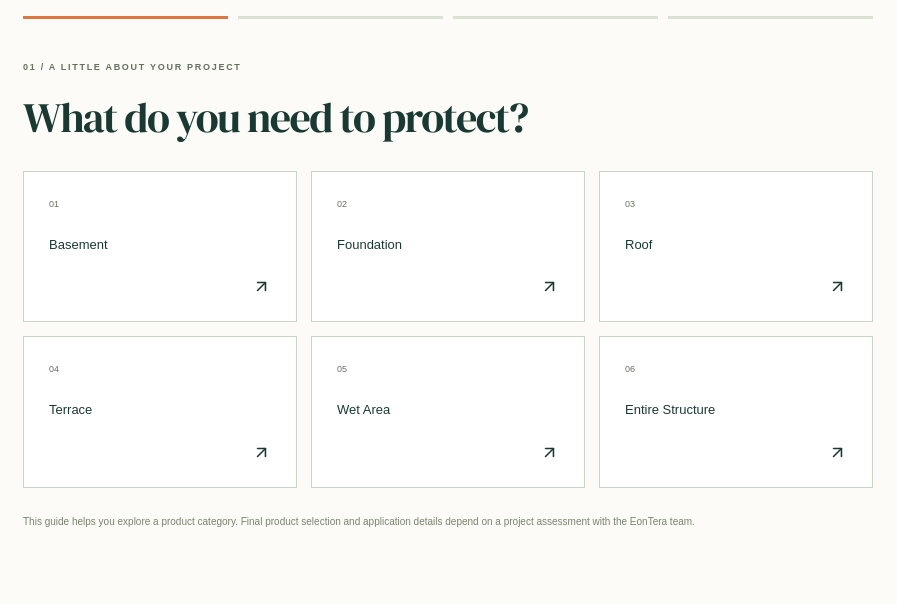
it: interactive static pages › completes the finder and preserves selections when going back
Click the button "01 Basement".
click(78, 244)  # box x1=23 y1=171 x2=297 y2=322
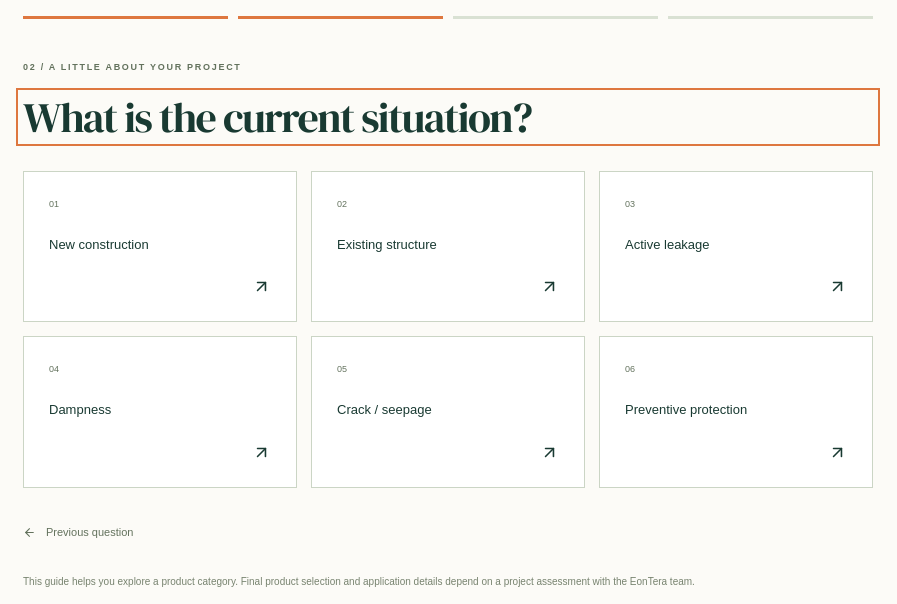
Expected: the heading "What is the current situation?" is shown, x1=23 y1=88 x2=532 y2=146
Click the button "03 Active leakage".
click(667, 244)  # box x1=599 y1=171 x2=873 y2=322
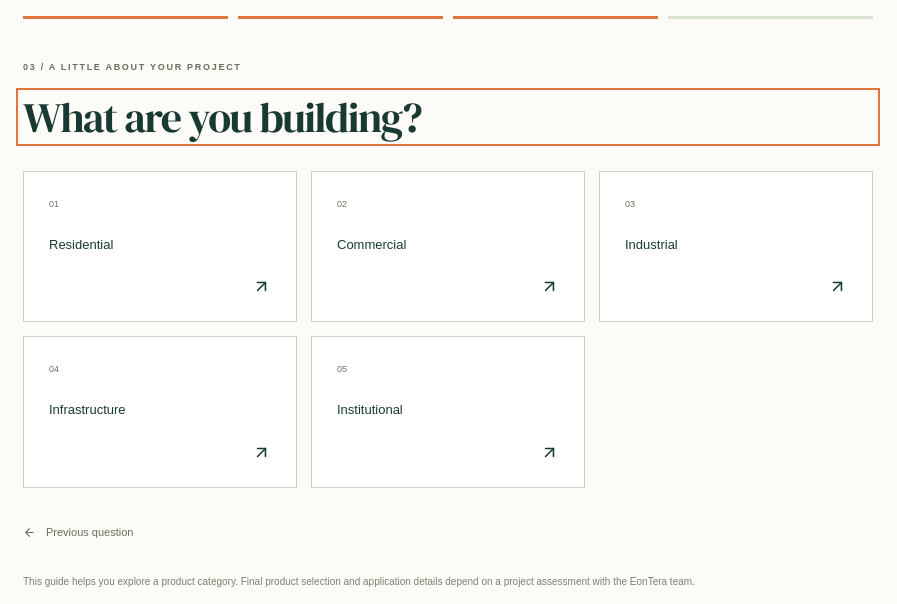
Click the button "01 Residential".
click(81, 244)  # box x1=23 y1=171 x2=297 y2=322
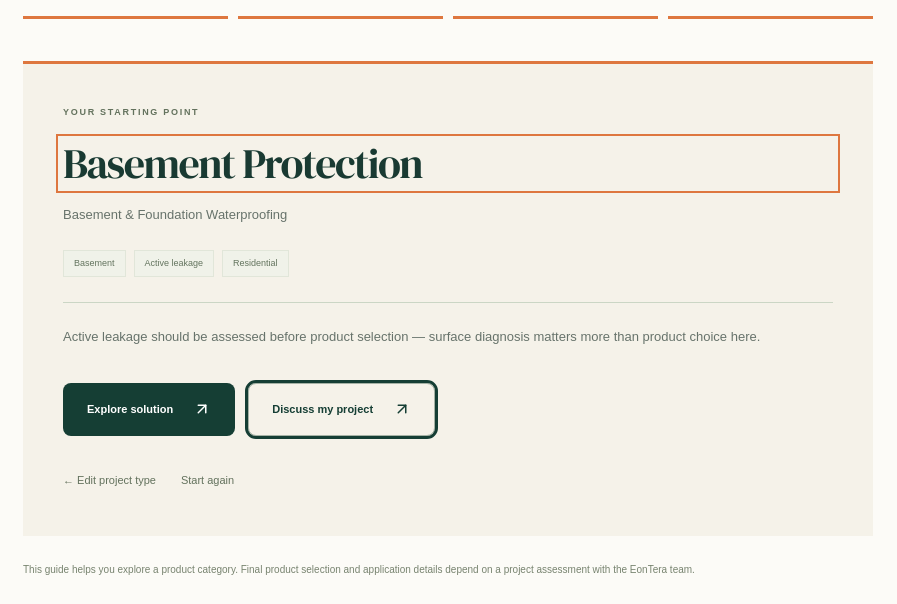
Expected: the heading "Basement Protection" is shown, x1=63 y1=134 x2=422 y2=192
Click the button "← Edit project type".
click(109, 480)  # box x1=63 y1=464 x2=156 y2=496
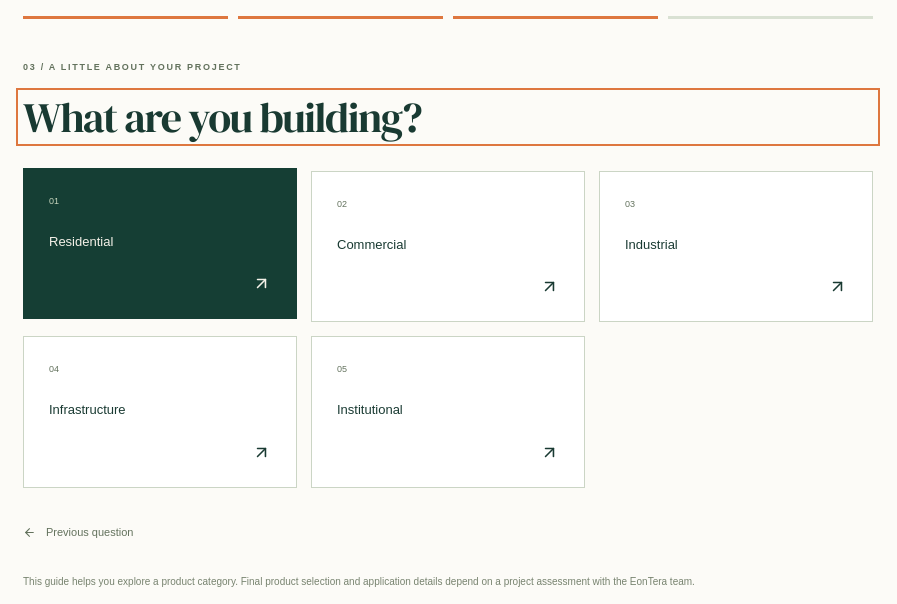
Expected: the button "01 Residential" is pressed, x1=23 y1=168 x2=297 y2=319
Click the button "02 Commercial".
click(372, 244)  # box x1=311 y1=171 x2=585 y2=322
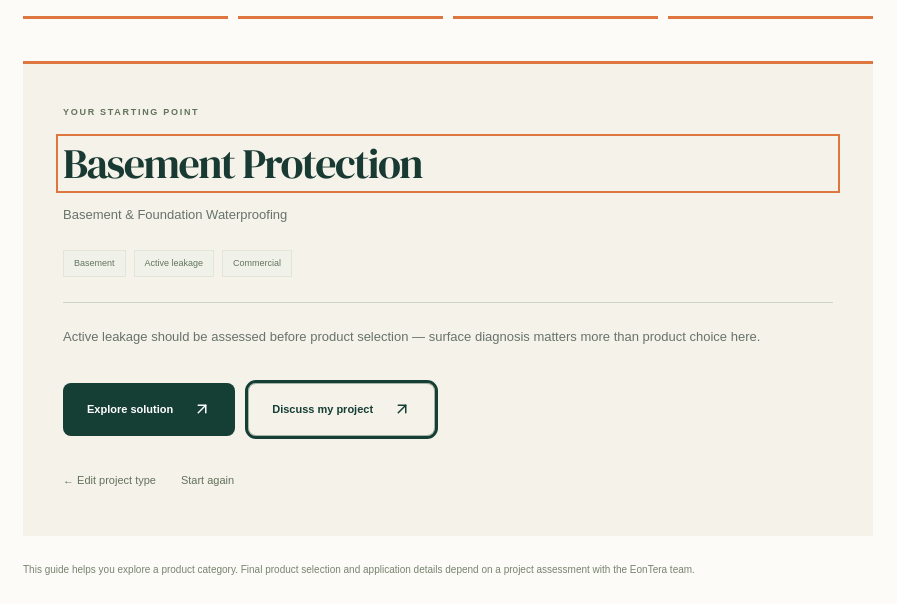
Click the button "Start again".
click(208, 480)  # box x1=181 y1=464 x2=234 y2=496
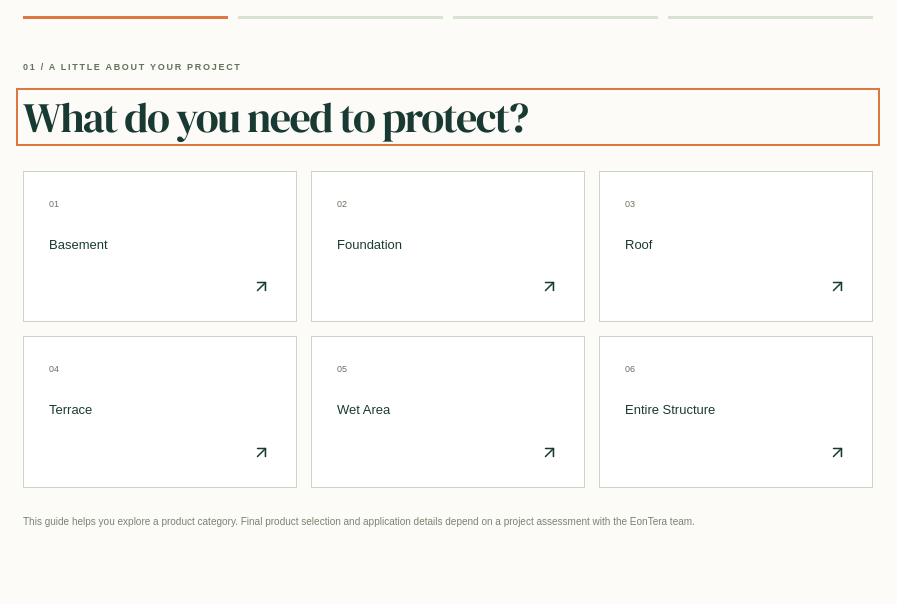
Expected: the heading "What do you need to protect?" is shown, x1=23 y1=88 x2=528 y2=146
